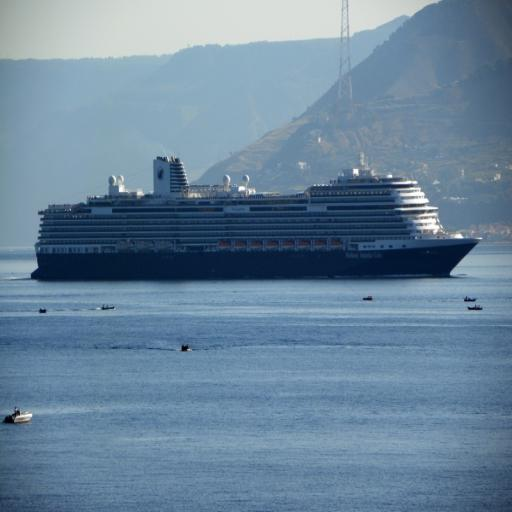cruises: (30, 153, 485, 284)
